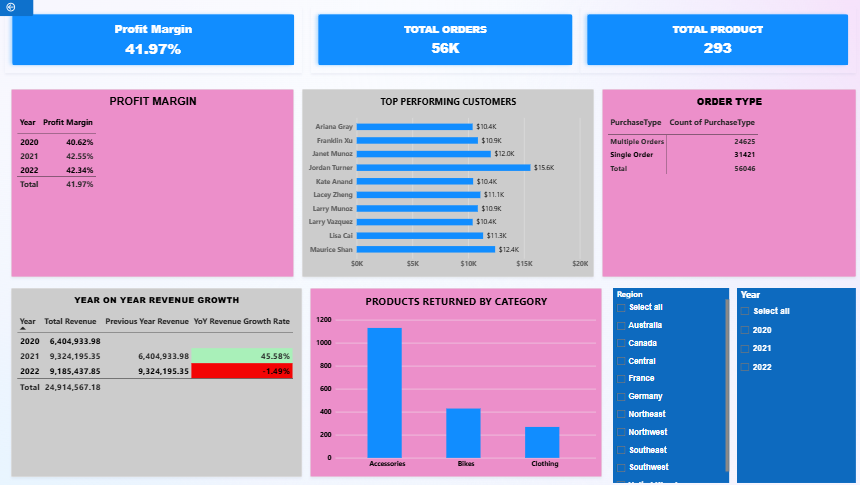

The dashboard page shown, as its layout file describes it:
{"tool":"powerbi","page":{"name":"Page 2","canvas":[1920,1080],"ordinal":1},"visuals":[{"type":"cardVisual","fields":{"Data":["Sales_2020-2022.Profit margin"]},"box":[37.3,19.8,652,144.9],"z":0},{"type":"tableEx","title":"PROFIT MARGIN ","fields":{"Values":["Calendar.Year","Sales_2020-2022.Profit Margin"]},"box":[50.5,199.8,621.2,412.7],"z":1000},{"type":"actionButton","box":[0,0,100,40],"z":2000},{"type":"cardVisual","fields":{"Data":["CountNonNull(Sales_2020-2022.OrderDateKey)"]},"box":[709,19.8,590.5,144.9],"z":3000},{"type":"cardVisual","fields":{"Data":["CountNonNull(Product.ProductKey)"]},"box":[1299.5,19.8,605.9,144.9],"z":4000},{"type":"clusteredBarChart","title":"TOP PERFORMING CUSTOMERS","fields":{"Category":["Customer.FullName","Calendar.Date.Variation.Date Hierarchy.Year"],"Y":["Sum(Sales_2020-2022.Revenue)"]},"box":[689.3,199.8,641,412.7],"z":5000},{"type":"slicer","fields":{"Values":["Calendar.Year"]},"box":[1644.1,636.6,261.2,428],"z":6000},{"type":"slicer","fields":{"Values":["Territory.Region"]},"box":[1372,636.6,254.6,428],"z":7000},{"type":"columnChart","title":"PRODUCTS RETURNED BY CATEGORY","fields":{"Category":["Product Category.CategoryName","Product Subcategories.SubcategoryName"],"Y":["Sum(Returns Data.ReturnQuantity)"]},"box":[706.8,636.6,641,414.9],"z":8000},{"type":"tableEx","title":"YEAR ON YEAR REVENUE GROWTH","fields":{"Values":["Calendar.Year","Sales_2020-2022.Total Revenue","Sales_2020-2022.Previous Year Revenue","Sales_2020-2022.YoY Revenue Growth Rate"]},"box":[50.5,636.6,638.8,414.9],"z":9000},{"type":"pivotTable","title":"ORDER TYPE","fields":{"Rows":["Sales_2020-2022.PurchaseType"],"Values":["CountNonNull(Sales_2020-2022.PurchaseType)"]},"box":[1347.8,199.8,557.6,412.7],"z":10000}]}

Visuals, with their boxes in screenshot pixels (x1, y1, x2, y2), scaled from the page's 1920x1080 canvas onto the 860x485 screenshot:
cardVisual - Sales_2020-2022.Profit margin: [17,9,309,74]
"PROFIT MARGIN " tableEx: [23,90,301,275]
actionButton: [0,0,45,18]
cardVisual - CountNonNull(Sales_2020-2022.OrderDateKey): [318,9,582,74]
cardVisual - CountNonNull(Product.ProductKey): [582,9,853,74]
"TOP PERFORMING CUSTOMERS" clusteredBarChart: [309,90,596,275]
slicer - Calendar.Year: [736,286,853,478]
slicer - Territory.Region: [615,286,729,478]
"PRODUCTS RETURNED BY CATEGORY" columnChart: [317,286,604,472]
"YEAR ON YEAR REVENUE GROWTH" tableEx: [23,286,309,472]
"ORDER TYPE" pivotTable: [604,90,853,275]
